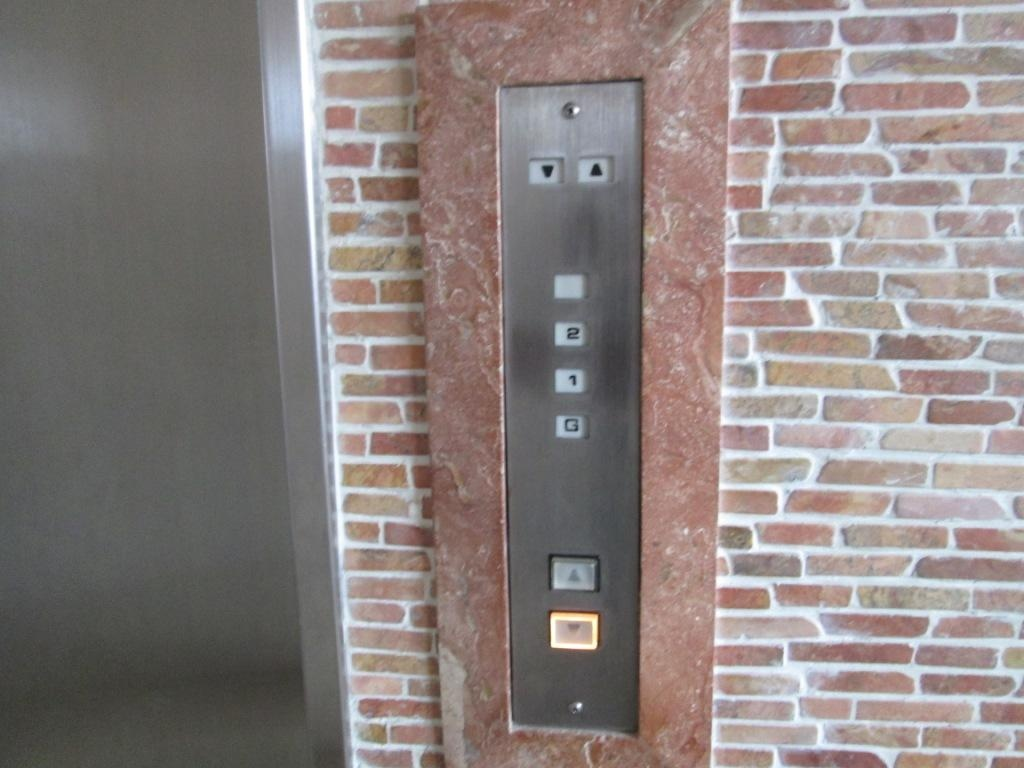1: (550, 365, 586, 394)
2: (551, 318, 586, 348)
G: (551, 411, 589, 441)
down: (546, 609, 601, 650), (524, 154, 564, 185)
empty: (550, 271, 585, 300)
up: (547, 551, 601, 594), (573, 153, 615, 185)
